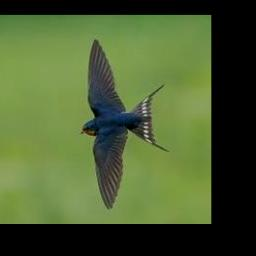Swallow: (80, 39, 170, 210)
